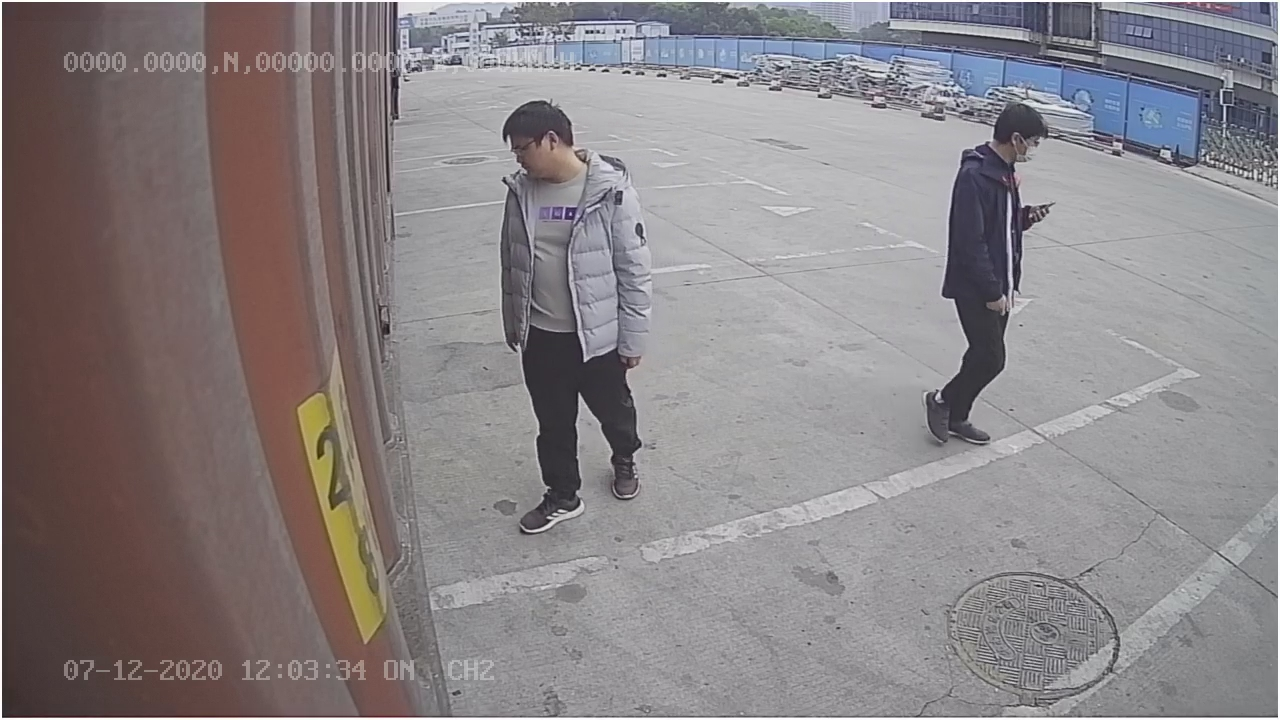person: (468, 95, 663, 538), (919, 84, 1051, 455)
